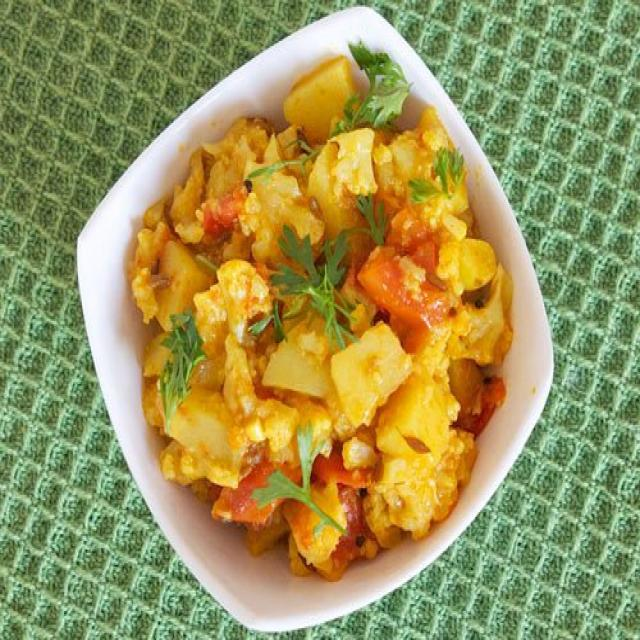cauliflower: (135, 138, 501, 543)
